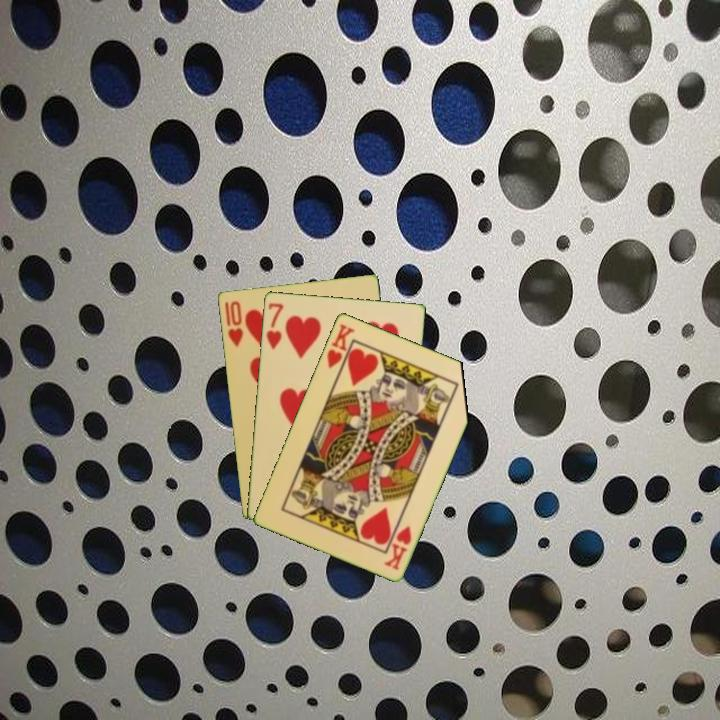10h: (224, 297, 245, 349)
7h: (262, 299, 286, 352)
Kh: (323, 320, 357, 377), (380, 522, 414, 573)
